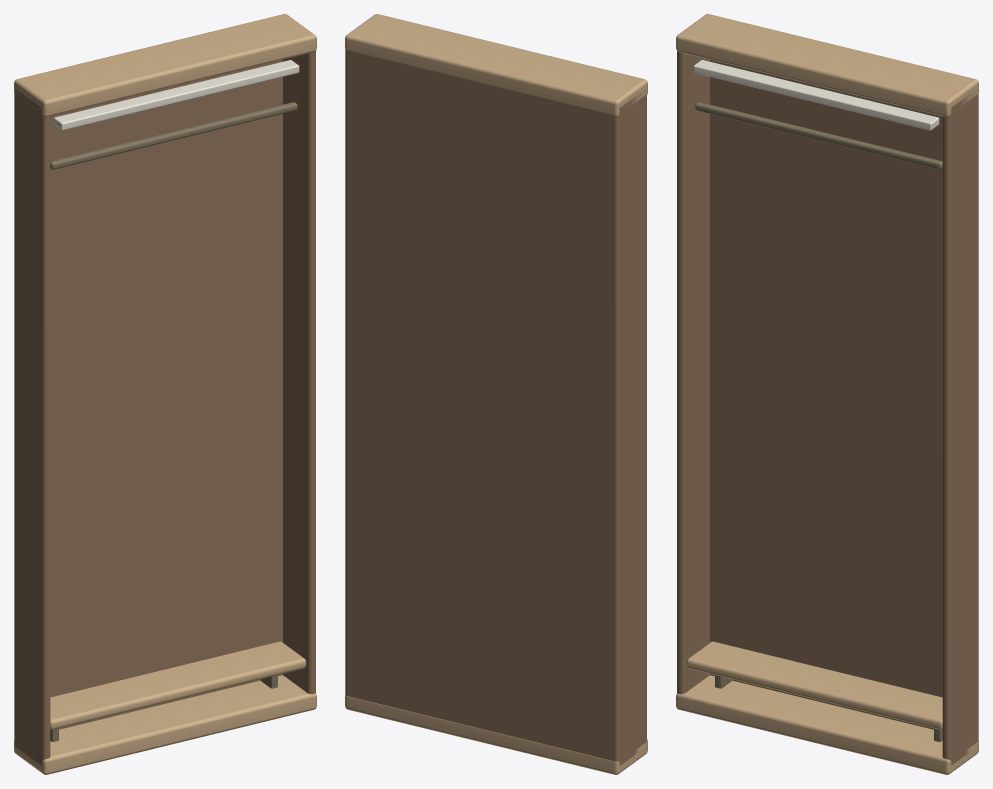
The model's file is wall_apparel_narrow.glb.
The picture shows the model from 3 angles, left to right: view 1: azimuth 30°, elevation 25°; view 2: azimuth 150°, elevation 25°; view 3: azimuth 330°, elevation 25°; orthographic projection.
Parts seen in each view (by area): view 1: Closed back, seated against existing opaque boundary, Outer stile, Outer stile.001, Bottom / crown.001, Bottom / crown, Load-bearing shelf, Integrated light diffuser, Hanging rail; view 2: Closed back, seated against existing opaque boundary, Outer stile, Bottom / crown.001, Bottom / crown; view 3: Closed back, seated against existing opaque boundary, Outer stile.001, Outer stile, Bottom / crown.001, Bottom / crown, Load-bearing shelf, Integrated light diffuser, Hanging rail.
Part boxes in pixels (x1,y1,x2,y2): Closed back, seated against existing opaque boundary: [14, 59, 282, 745]; Outer stile: [15, 89, 50, 765]; Outer stile.001: [283, 51, 315, 694]; Bottom / crown.001: [14, 14, 316, 116]; Bottom / crown: [14, 675, 316, 774]; Load-bearing shelf: [50, 641, 306, 729]; Integrated light diffuser: [53, 60, 299, 130]; Hanging rail: [50, 102, 297, 169]; Closed back, seated against existing opaque boundary: [345, 49, 620, 765]; Outer stile: [620, 91, 646, 765]; Bottom / crown.001: [345, 14, 647, 115]; Bottom / crown: [345, 695, 647, 774]; Closed back, seated against existing opaque boundary: [710, 59, 978, 741]; Outer stile.001: [942, 91, 977, 765]; Outer stile: [677, 51, 709, 694]; Bottom / crown.001: [676, 14, 978, 116]; Bottom / crown: [676, 675, 978, 774]; Load-bearing shelf: [686, 641, 942, 729]; Integrated light diffuser: [693, 60, 939, 130]; Hanging rail: [695, 102, 942, 169].
Size of the model in its own units: 1 by 2.36 by 0.2.
